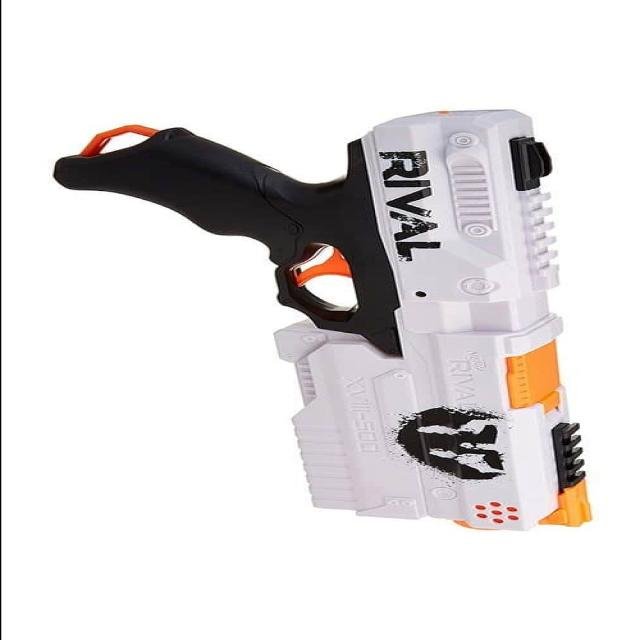Nerf gun: (37, 103, 603, 537)
